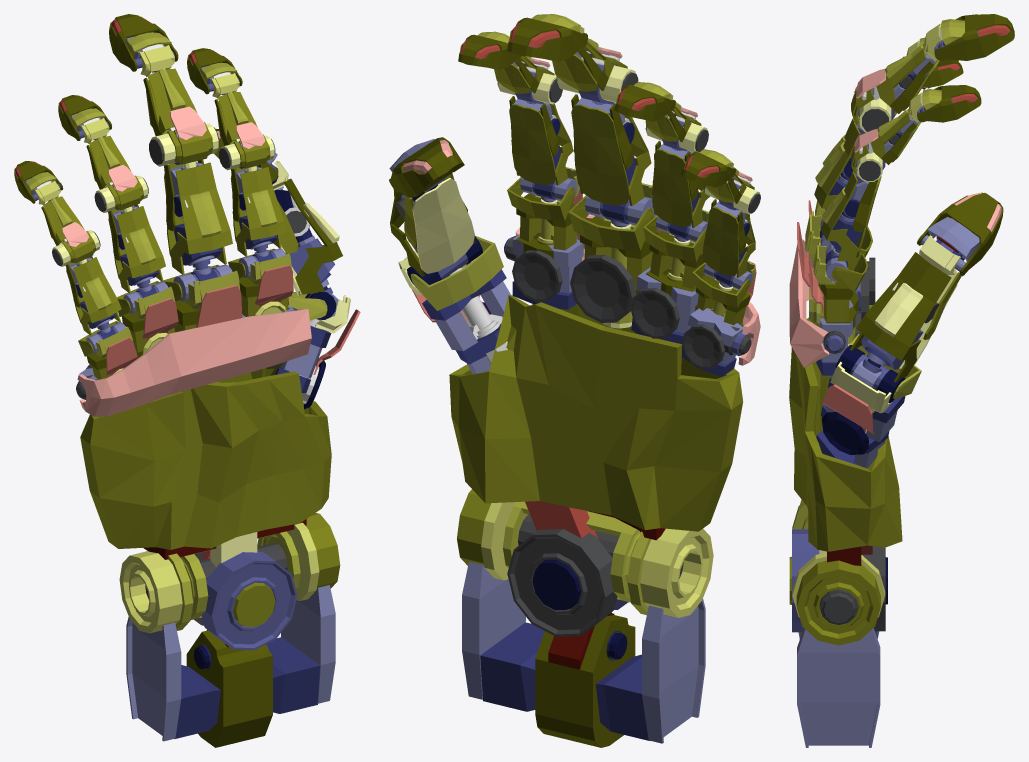
Rendered from HAnd.fbx.
The picture shows the model from 3 angles, left to right: view 1: azimuth 30°, elevation 25°; view 2: azimuth 150°, elevation 25°; view 3: azimuth 270°, elevation 25°; orthographic projection. The views are drawn at different scales.
Parts seen in each view (by area): view 1: Cube_2_21, Boole_1_10, Cube_6, Cylinder_8, Cube_4, Cube_5, Cylinder_9_2, Cube_3, Cube_3_7, Cube_3_10, Cube_3_13, Cylinder_10 (+37 smaller); view 2: Cube_2_21, Cylinder_6, Cube_6, Cube_4, Cube_5, Cylinder_9_2, Cube_3, Cube_2_10, Cube_2_7, Cylinder_4_17, Cylinder_10, Cube_2_13 (+40 smaller); view 3: Cube_2_21, Cube_3, Cylinder_9_3, Cube_3_3, Boole_1_10, Cube_1_9, Cube_1_14, Cylinder_7_3, Cube_1_19, Cube_1_6, Cube_6_3, Cube_3_10 (+38 smaller).
Part boxes in pixels (bbox=[...]): Cube_2_21: bbox=[80, 363, 331, 549]; Boole_1_10: bbox=[77, 309, 311, 416]; Cube_6: bbox=[186, 630, 272, 747]; Cylinder_8: bbox=[201, 551, 297, 650]; Cube_4: bbox=[126, 617, 181, 741]; Cube_5: bbox=[174, 637, 319, 739]; Cylinder_9_2: bbox=[119, 551, 182, 633]; Cube_3: bbox=[281, 585, 335, 703]; Cube_3_7: bbox=[170, 162, 232, 274]; Cube_3_10: bbox=[236, 167, 285, 256]; Cube_3_13: bbox=[116, 206, 165, 293]; Cylinder_10: bbox=[180, 531, 300, 619]; Cube_2_21: bbox=[449, 295, 743, 531]; Cylinder_6: bbox=[507, 529, 617, 636]; Cube_6: bbox=[535, 615, 635, 747]; Cube_4: bbox=[642, 599, 705, 743]; Cube_5: bbox=[480, 622, 650, 740]; Cylinder_9_2: bbox=[640, 528, 713, 617]; Cube_3: bbox=[462, 561, 525, 699]; Cube_2_10: bbox=[571, 104, 630, 205]; Cube_2_7: bbox=[412, 178, 474, 273]; Cylinder_4_17: bbox=[570, 254, 636, 322]; Cylinder_10: bbox=[503, 501, 640, 602]; Cube_2_13: bbox=[509, 104, 556, 185]; Cube_2_21: bbox=[789, 305, 902, 551]; Cube_3: bbox=[797, 628, 880, 747]; Cylinder_9_3: bbox=[796, 560, 880, 645]; Cube_3_3: bbox=[850, 252, 951, 382]; Boole_1_10: bbox=[789, 239, 829, 367]; Cube_1_9: bbox=[917, 192, 1003, 276]; Cube_1_14: bbox=[934, 14, 1014, 60]; Cylinder_7_3: bbox=[822, 412, 869, 454]; Cube_1_19: bbox=[917, 85, 981, 122]; Cube_1_6: bbox=[875, 283, 922, 336]; Cube_6_3: bbox=[822, 384, 874, 434]; Cube_3_10: bbox=[821, 167, 858, 261].
Size of the model in its own units: 505 by 1051 by 308.
